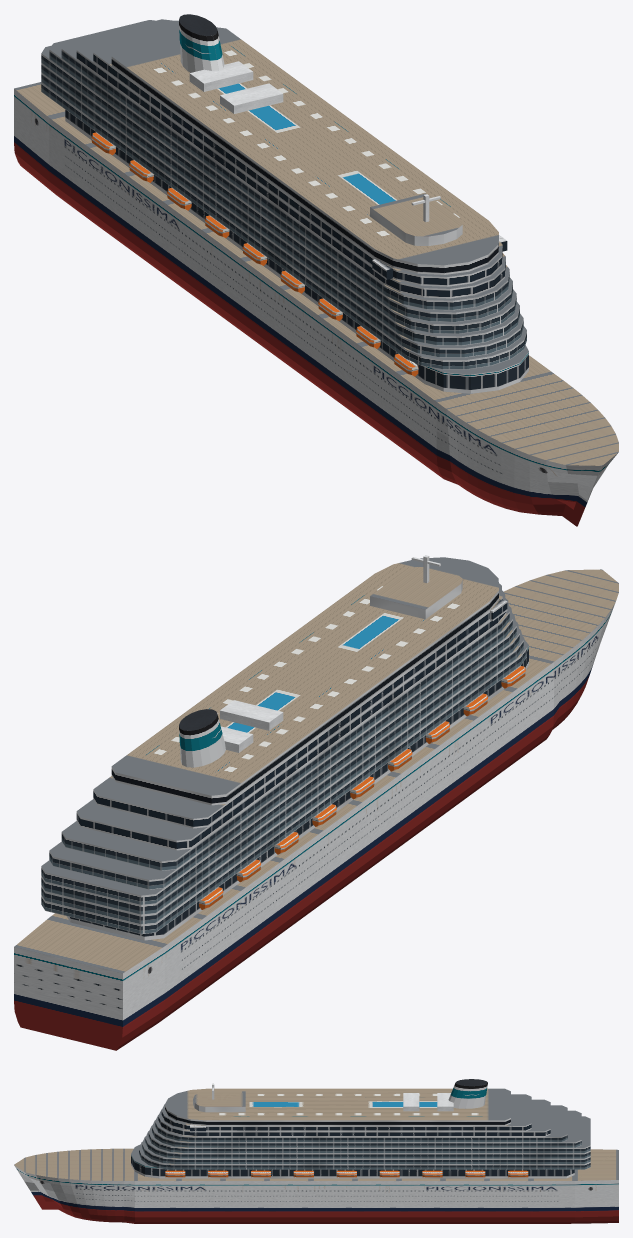
The model's file is SM_MoloItalia_NaveCrociera_v2.fbx.
The picture shows the model from 3 angles, top to bottom: view 1: azimuth 30°, elevation 25°; view 2: azimuth 150°, elevation 25°; view 3: azimuth 270°, elevation 25°; orthographic projection. The views are drawn at different scales.
Visible parts, largest first — view 1: SM_MoloItalia_NaveCrociera_v2; view 2: SM_MoloItalia_NaveCrociera_v2; view 3: SM_MoloItalia_NaveCrociera_v2.
Part boxes in pixels (x1,y1,x2,y2): SM_MoloItalia_NaveCrociera_v2: [14, 14, 618, 526]; SM_MoloItalia_NaveCrociera_v2: [14, 555, 618, 1050]; SM_MoloItalia_NaveCrociera_v2: [14, 1079, 618, 1223].
Size of what is drawn, in the model's own units: 3920 by 30000 by 6950.
Materials: 1 (1 with a texture image).
